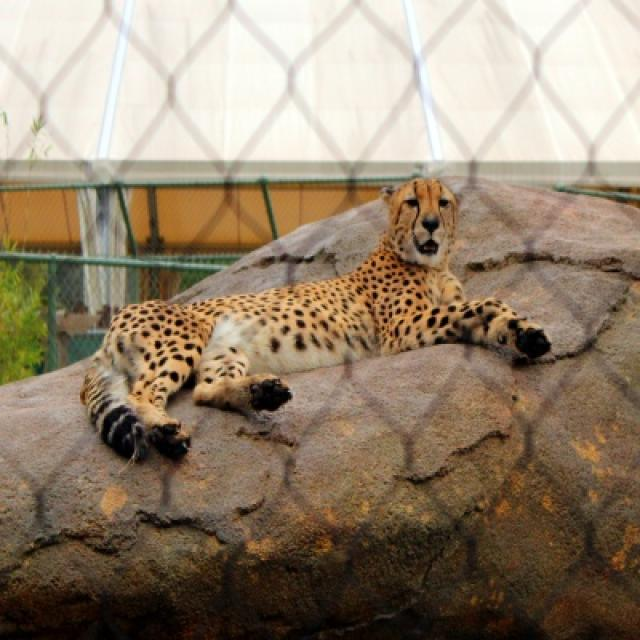Cheetah: (84, 183, 559, 459)
